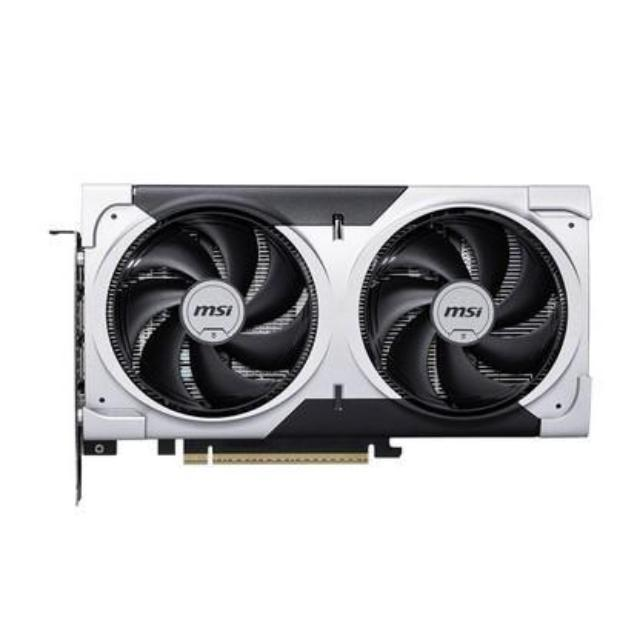GPU: (60, 165, 612, 490)
